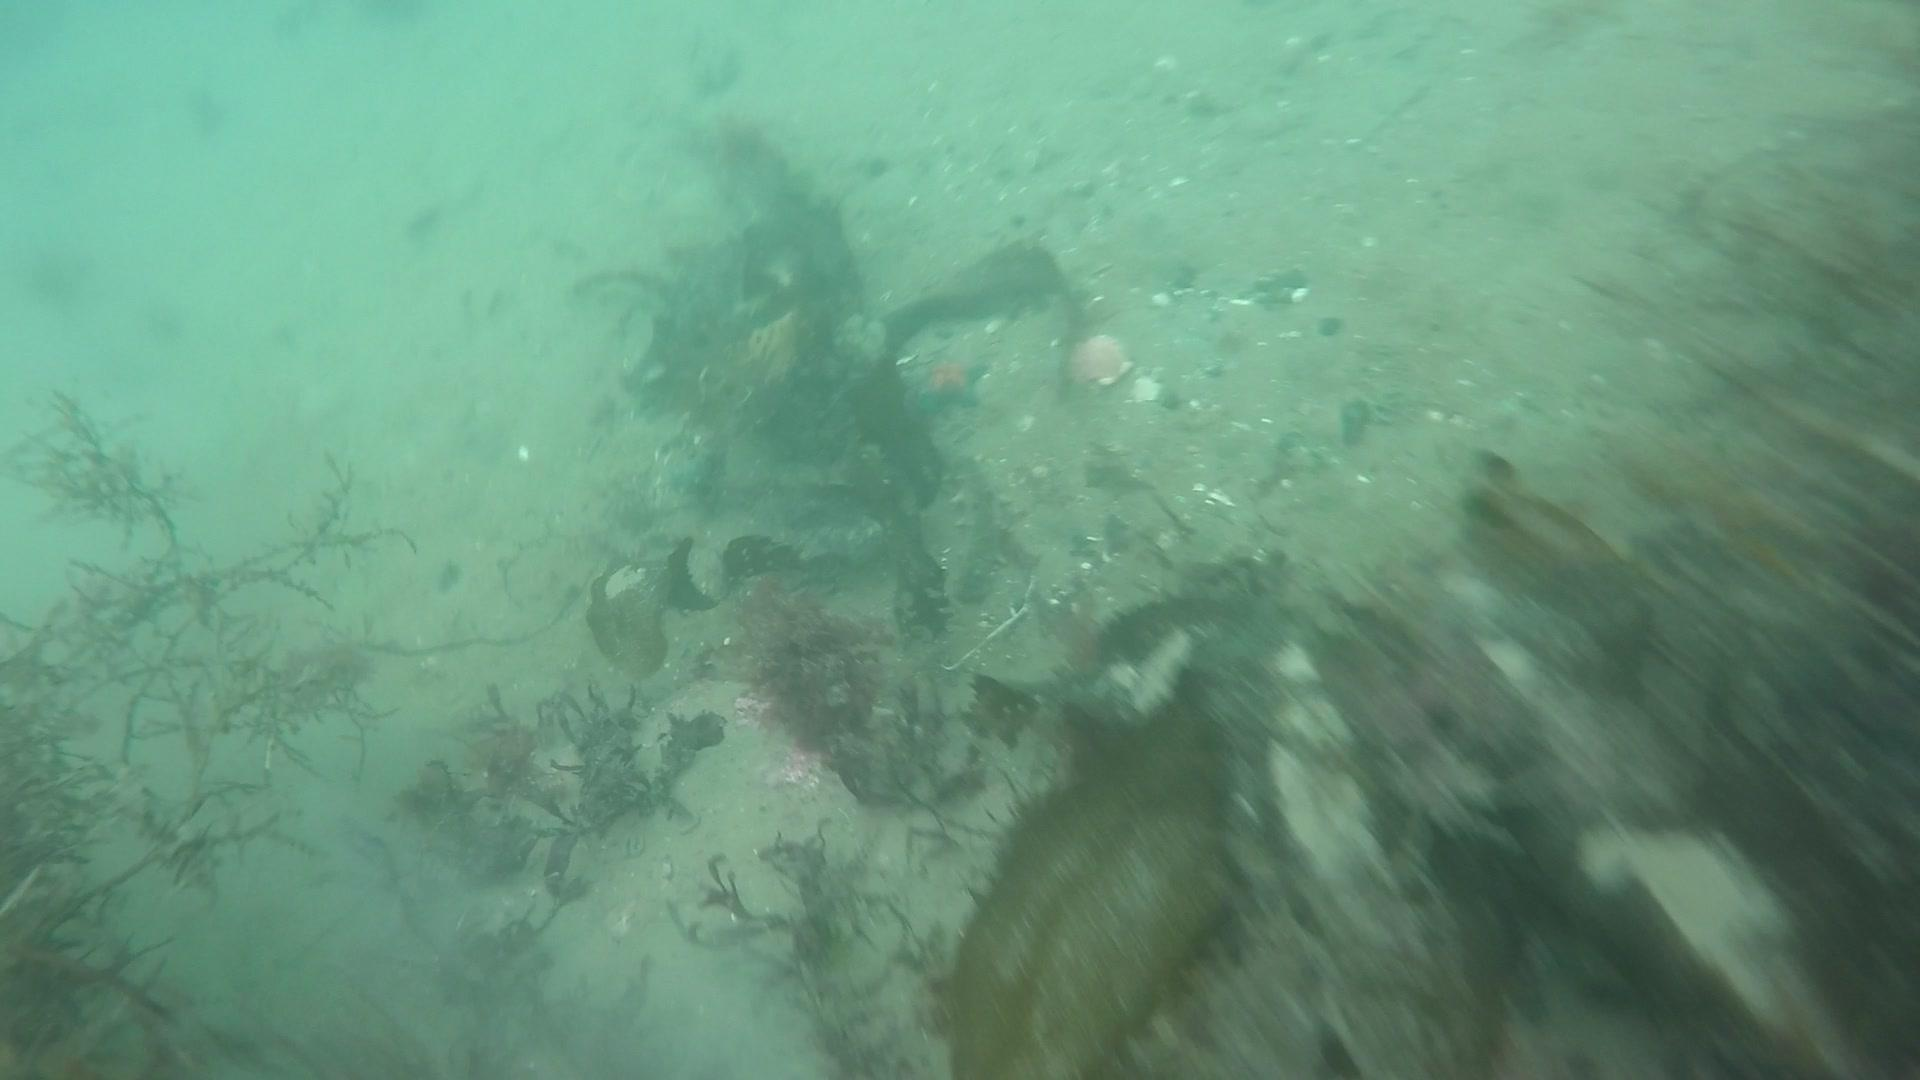holothurian: (938, 454, 1011, 616)
scallop: (1065, 328, 1137, 393)
starfish: (899, 344, 996, 430)
